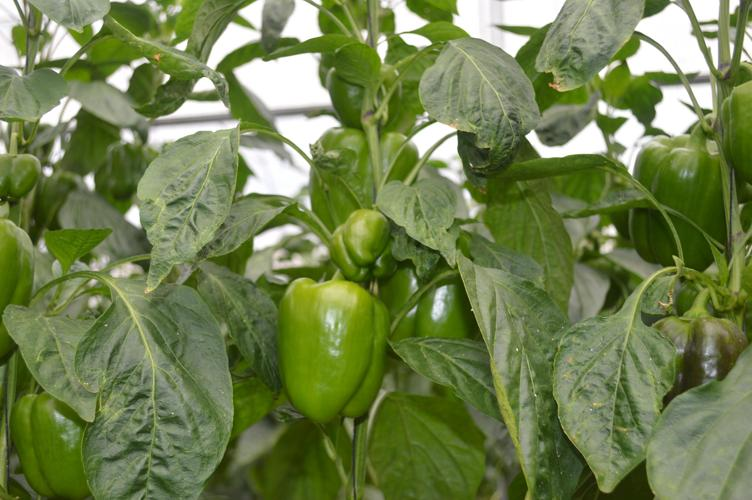BellPepper: (617, 134, 732, 265), (279, 281, 386, 417), (309, 132, 420, 219), (13, 389, 98, 497), (378, 260, 473, 344), (320, 61, 407, 129), (331, 210, 398, 282)
